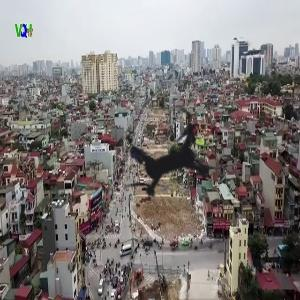drone: (78, 73, 256, 251)
